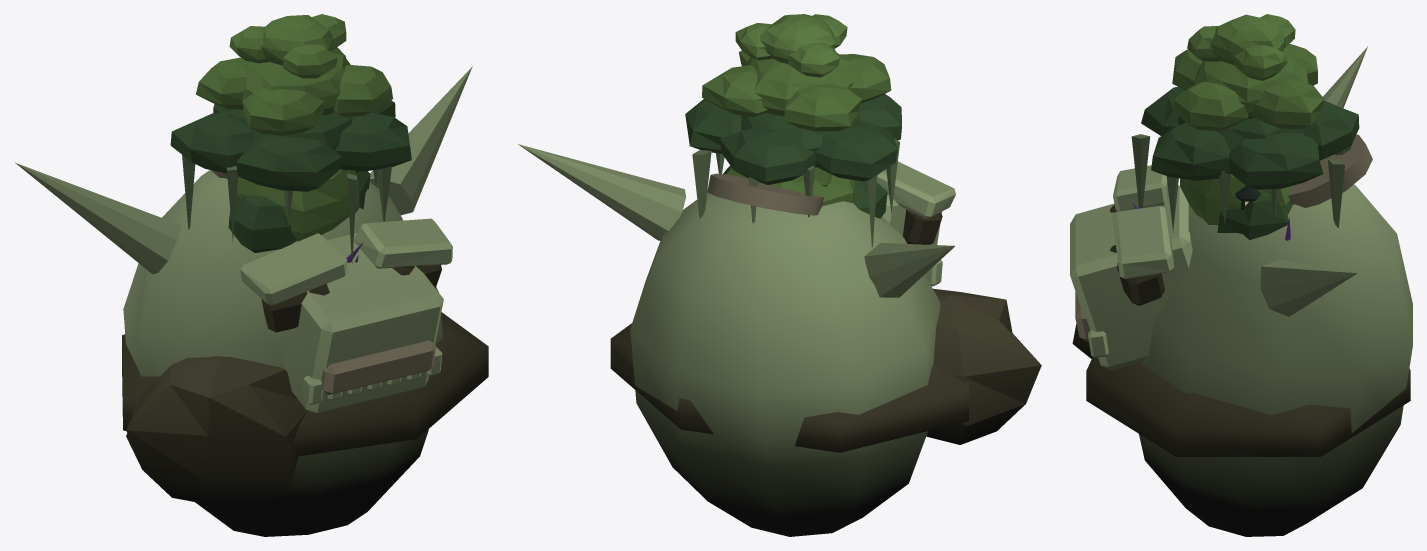
Rendered from props_bataklik.glb.
3 renders of one model, left to right at view 1: azimuth 30°, elevation 25°; view 2: azimuth 150°, elevation 25°; view 3: azimuth 270°, elevation 25°, orthographic. The views are drawn at different scales.
Parts seen in each view (by area): view 1: kafatasi, agac, fidan; view 2: kafatasi, agac, fidan; view 3: kafatasi, agac, fidan.
Part boxes in pixels (x1,y1,x2,y2): kafatasi: (15,66,488,536); agac: (170,14,411,264); fidan: (228,169,370,252); kafatasi: (518,144,1041,536); agac: (685,14,901,246); fidan: (723,165,887,218); kafatasi: (1070,46,1412,536); agac: (1131,14,1359,232); fidan: (1180,174,1293,239).
Bounding box in the file's own units: 229 × 247 × 153.
